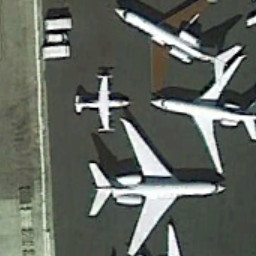Airplane: (79, 117, 227, 251), (148, 54, 256, 165), (109, 5, 241, 83), (62, 67, 132, 137)
